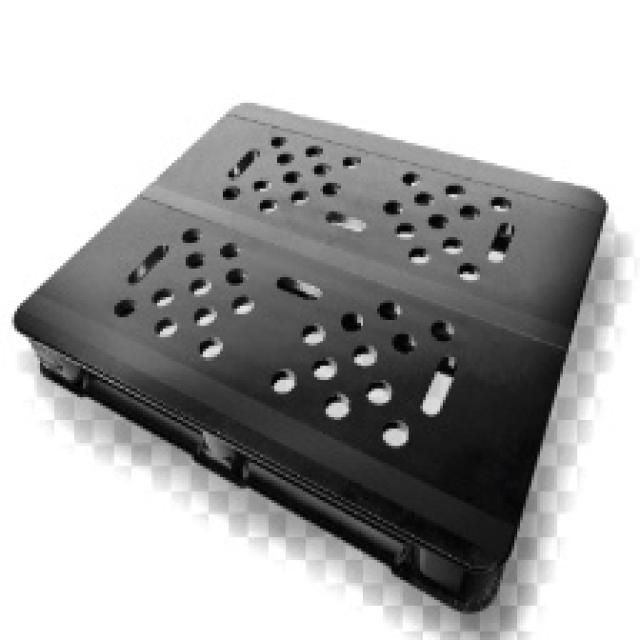igps: (10, 94, 612, 617)
